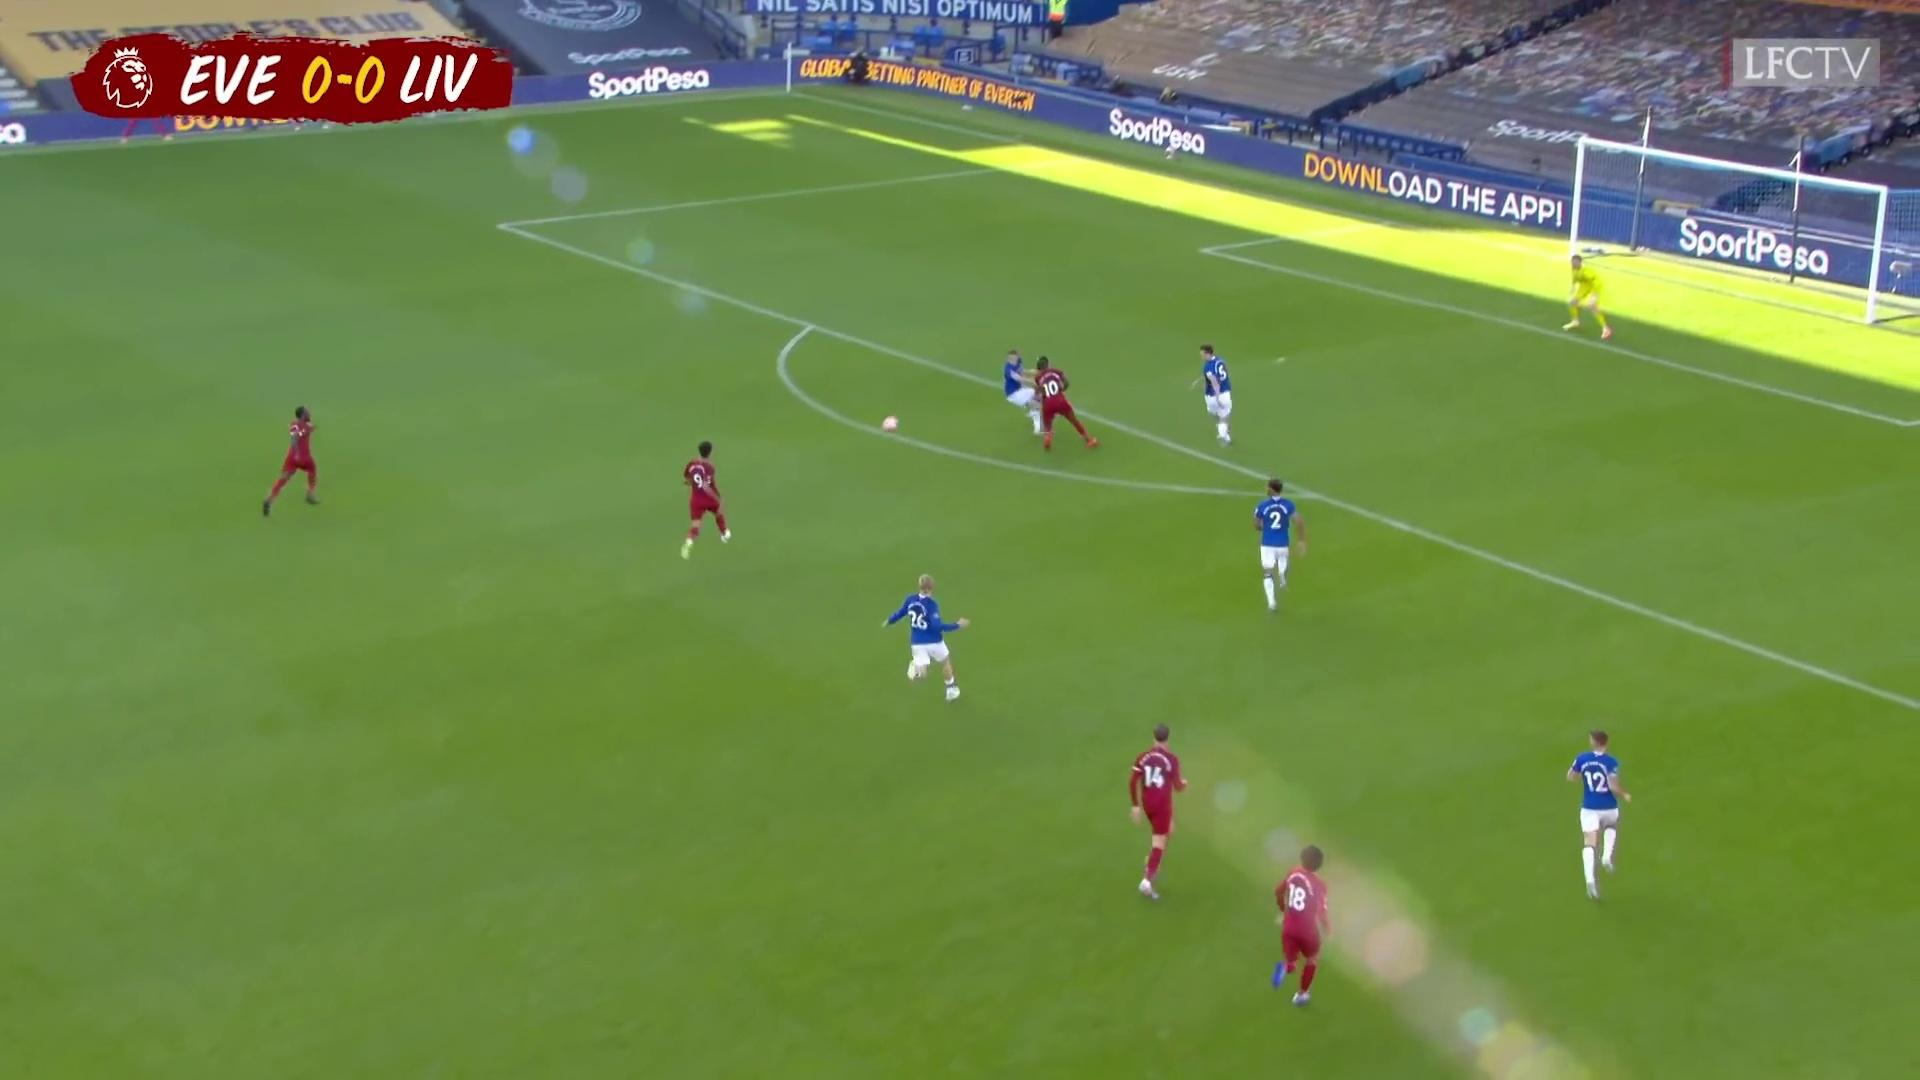ball: (878, 411, 903, 437)
goalkeeper: (1554, 247, 1615, 343)
player: (1559, 725, 1633, 907), (1126, 719, 1196, 905), (1268, 842, 1341, 1015), (881, 572, 974, 706), (1249, 476, 1311, 619), (256, 407, 329, 524), (675, 436, 737, 562), (1029, 355, 1105, 455), (1195, 341, 1240, 451), (998, 348, 1053, 428)
